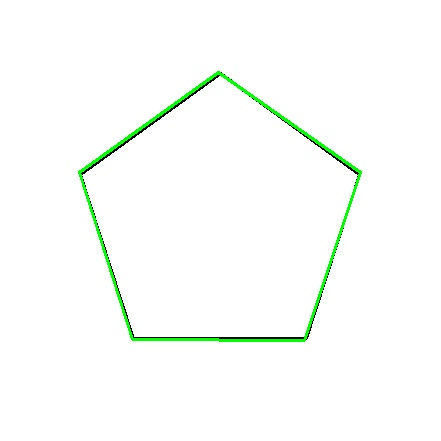line_segment: (79, 72, 361, 341)
